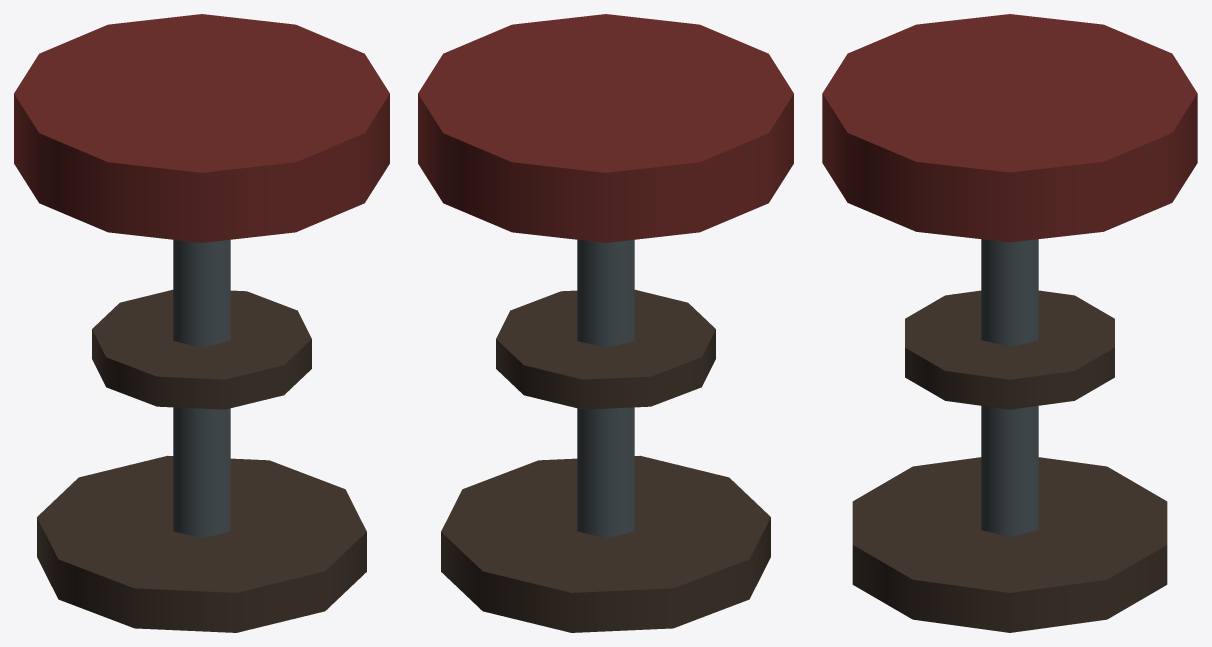
File: cantina_stool.glb
3 views of the same model, side by side, from view 1: azimuth 30°, elevation 25°; view 2: azimuth 150°, elevation 25°; view 3: azimuth 270°, elevation 25° (orthographic).
Visible parts, largest first — view 1: sw5e_int_cantina_stool; view 2: sw5e_int_cantina_stool; view 3: sw5e_int_cantina_stool.
Part boxes in pixels (<box>): sw5e_int_cantina_stool: <box>14,14,389,632</box>; sw5e_int_cantina_stool: <box>418,14,793,632</box>; sw5e_int_cantina_stool: <box>822,14,1197,632</box>.
Size of the model in its own units: 0.34 by 0.47 by 0.34.
